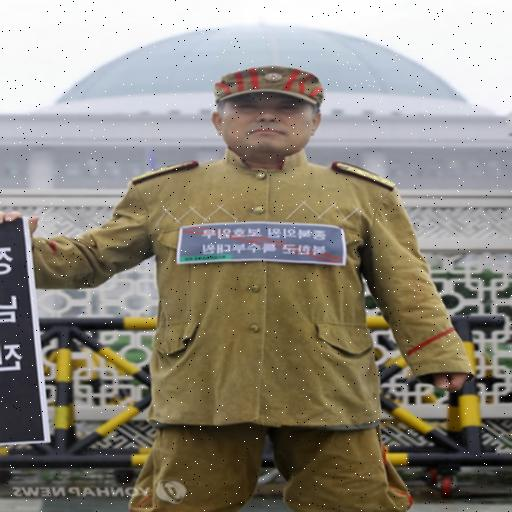north army: (95, 52, 445, 508)
